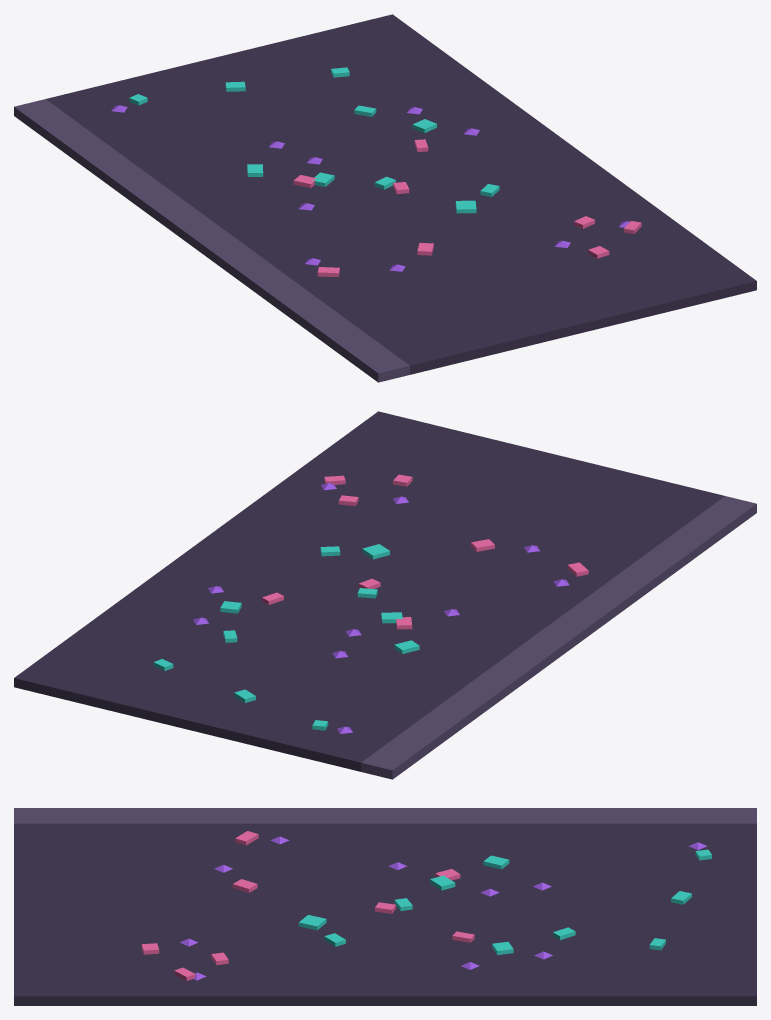
The model's file is env_r12_verge.glb.
3 renders of one model, top to bottom at view 1: azimuth 30°, elevation 25°; view 2: azimuth 150°, elevation 25°; view 3: azimuth 270°, elevation 25°, orthographic.
Parts seen in each view (by area): view 1: env_r12_verge; view 2: env_r12_verge; view 3: env_r12_verge.
Boxes of the visible parts, x1=… form: env_r12_verge: x1=14, y1=14, x2=756, y2=382; env_r12_verge: x1=14, y1=411, x2=756, y2=779; env_r12_verge: x1=14, y1=808, x2=756, y2=1005.
Size of the model in its own units: 6 by 0.2 by 10.
1 material, 1 textured.
